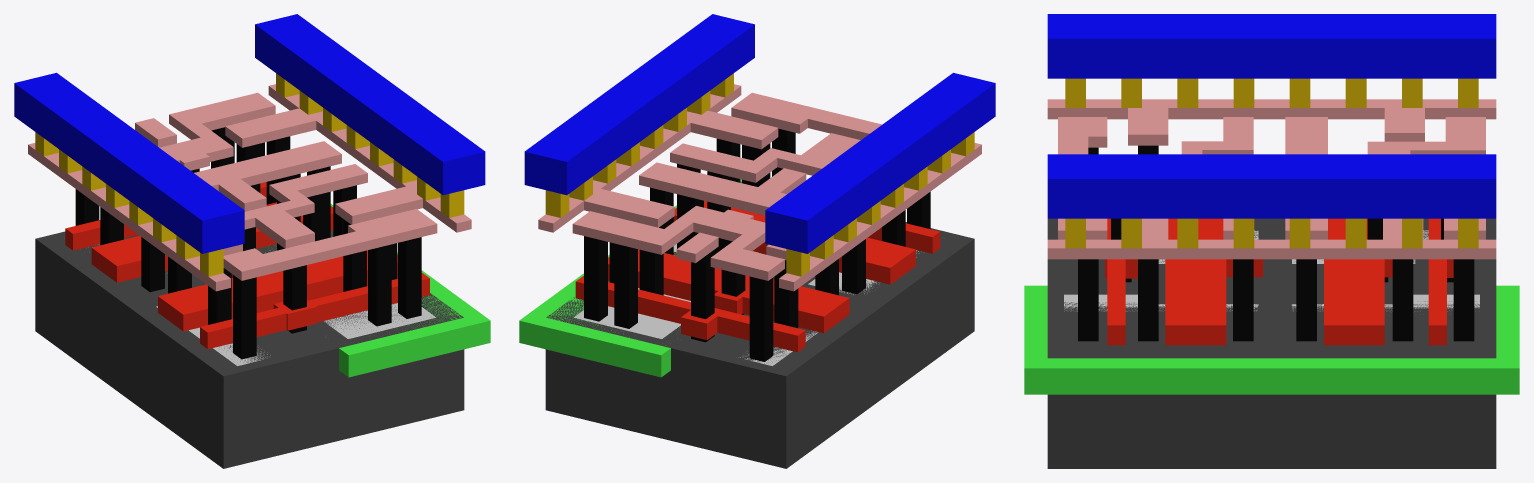
File: sky130_fd_sc_hd__clkdlybuf4s50_1.obj
3 views of the same model, side by side, from view 1: azimuth 30°, elevation 25°; view 2: azimuth 150°, elevation 25°; view 3: azimuth 270°, elevation 25° (orthographic). The views are drawn at different scales.
Parts seen in each view (by area): view 1: subs, metal1, li, licon, poly, nwell, mcon, tap, diff; view 2: subs, metal1, li, licon, poly, nwell, mcon, tap, diff; view 3: metal1, subs, li, nwell, poly, licon, mcon, tap.
Boxes of the visible parts, x1,y1,x2,y2 form: subs: (35, 230, 464, 468); metal1: (14, 14, 485, 253); li: (28, 84, 471, 291); licon: (75, 127, 421, 359); poly: (65, 182, 429, 348); nwell: (265, 204, 490, 377); mcon: (35, 73, 464, 276); tap: (324, 303, 435, 338); diff: (88, 244, 270, 365); subs: (545, 181, 974, 468); metal1: (524, 14, 995, 253); li: (538, 84, 981, 291); licon: (584, 128, 930, 361); poly: (575, 201, 940, 352); nwell: (519, 179, 741, 377); mcon: (545, 73, 974, 276); tap: (574, 244, 757, 338); diff: (738, 250, 919, 365); metal1: (1047, 14, 1496, 218); subs: (1047, 218, 1496, 468); li: (1047, 99, 1496, 259); nwell: (1024, 285, 1519, 394); poly: (1105, 218, 1453, 345); licon: (1078, 145, 1474, 341); mcon: (1065, 78, 1478, 248); tap: (1064, 294, 1479, 311).
Bounding box in the file's own units: 3.2 × 2.74 × 4.06.
